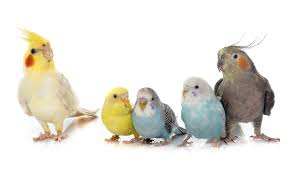budgie: (180, 77, 226, 147), (131, 87, 180, 152), (100, 87, 134, 146)
